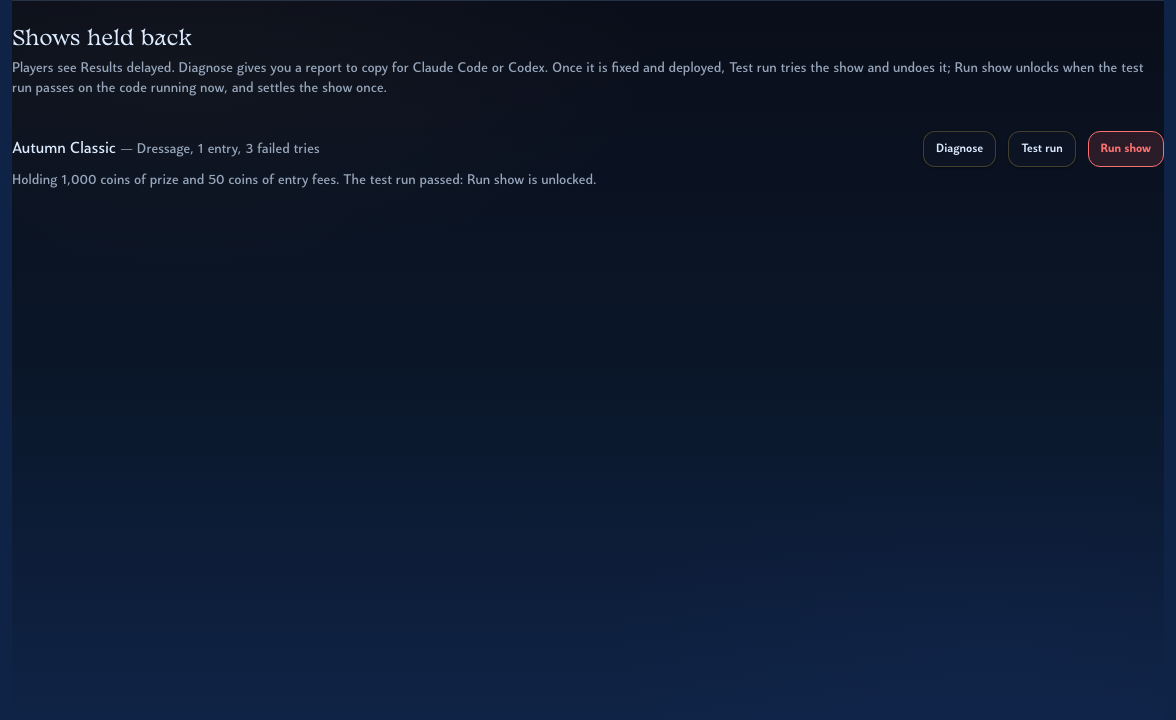
Test: StaffQuarantinedShows › a run refused because the game was updated asks for a new test run
What coordinates should you click on to do the following:
click the button with aria-label "Run Autumn Classic"
I would click on:
 (1126, 149)
Its box is x1=1088 y1=131 x2=1164 y2=167.
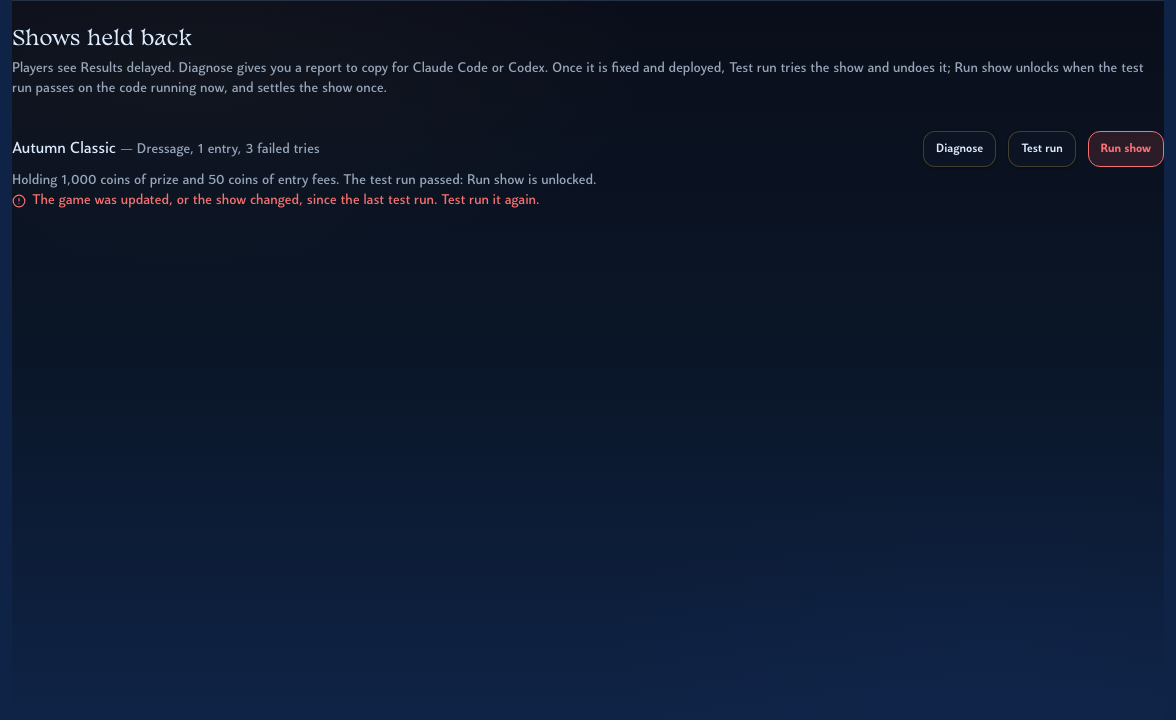
Expected: the text "since the last test run. Test run it again" is shown, x1=32 y1=193 x2=539 y2=208
